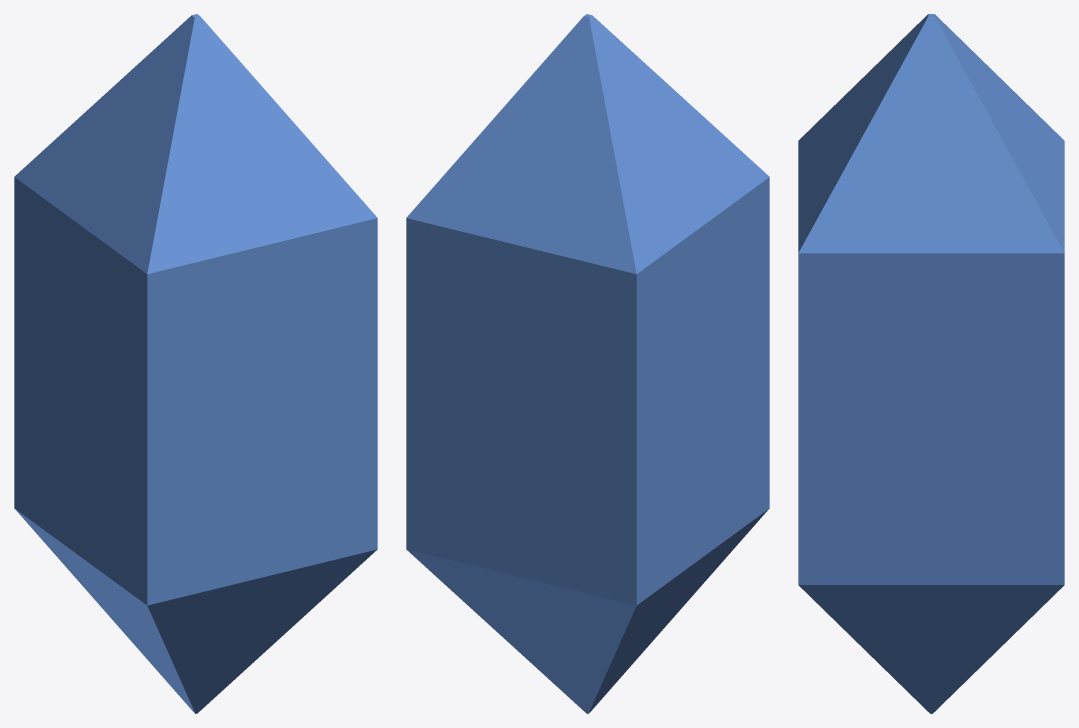
File: start.fbx
3 views of the same model, side by side, from view 1: azimuth 30°, elevation 25°; view 2: azimuth 150°, elevation 25°; view 3: azimuth 270°, elevation 25° (orthographic).
Parts seen in each view (by area): view 1: 立方体; view 2: 立方体; view 3: 立方体.
Part boxes in pixels (box(x1,y1,x2,y2)): 立方体: box(14, 14, 377, 713); 立方体: box(406, 14, 769, 713); 立方体: box(798, 14, 1064, 713).
Size of the model in its own units: 53.57 by 155 by 53.57.
